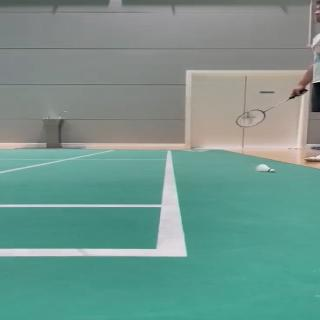Shuttle: (256, 164, 276, 172)
